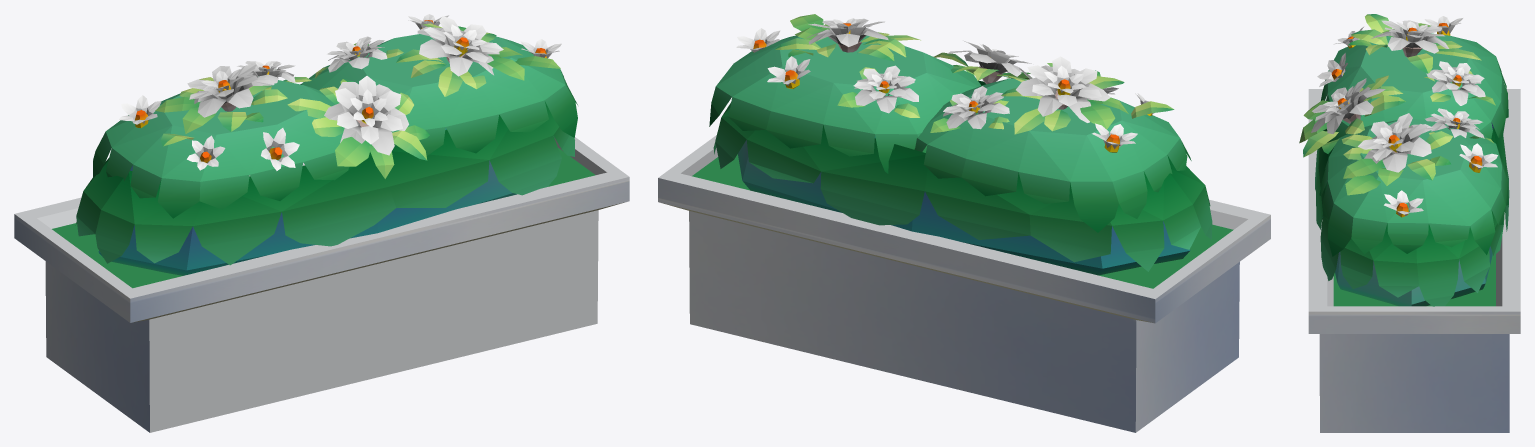
The model's file is CBS_cafe_Flowerpot_S.FBX.
3 views of the same model, side by side, from view 1: azimuth 30°, elevation 25°; view 2: azimuth 150°, elevation 25°; view 3: azimuth 270°, elevation 25° (orthographic). The views are drawn at different scales.
Parts seen in each view (by area): view 1: CBS_cafe_Flowerpot_S; view 2: CBS_cafe_Flowerpot_S; view 3: CBS_cafe_Flowerpot_S.
Boxes of the visible parts, x1,y1,x2,y2 form: CBS_cafe_Flowerpot_S: (14,14,629,432); CBS_cafe_Flowerpot_S: (658,14,1270,432); CBS_cafe_Flowerpot_S: (1299,14,1520,432).
Size of the model in its own units: 82.28 by 46.14 by 34.56.
